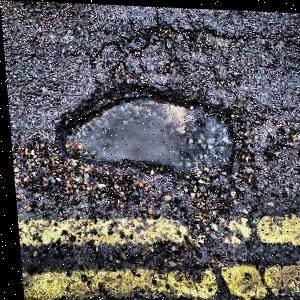pothole: (47, 75, 252, 188)
